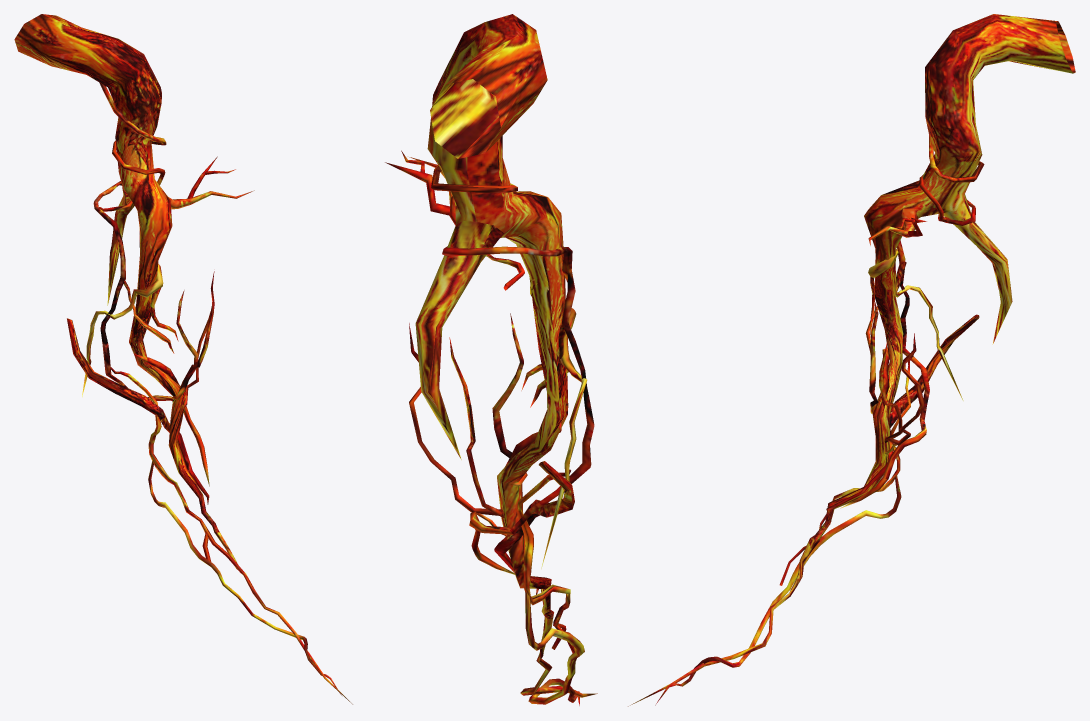
The model's file is S_Tree_Red035_Effect.FBX.
3 renders of one model, left to right at view 1: azimuth 30°, elevation 25°; view 2: azimuth 150°, elevation 25°; view 3: azimuth 270°, elevation 25°, orthographic. The views are drawn at different scales.
Parts seen in each view (by area): view 1: S_Tree_Red035_Effect; view 2: S_Tree_Red035_Effect; view 3: S_Tree_Red035_Effect.
Boxes of the visible parts, x1,y1,x2,y2 form: S_Tree_Red035_Effect: (14, 14, 352, 704); S_Tree_Red035_Effect: (385, 14, 597, 705); S_Tree_Red035_Effect: (628, 14, 1075, 706).
Bounding box in the file's own units: 604 × 1434 × 2227.
